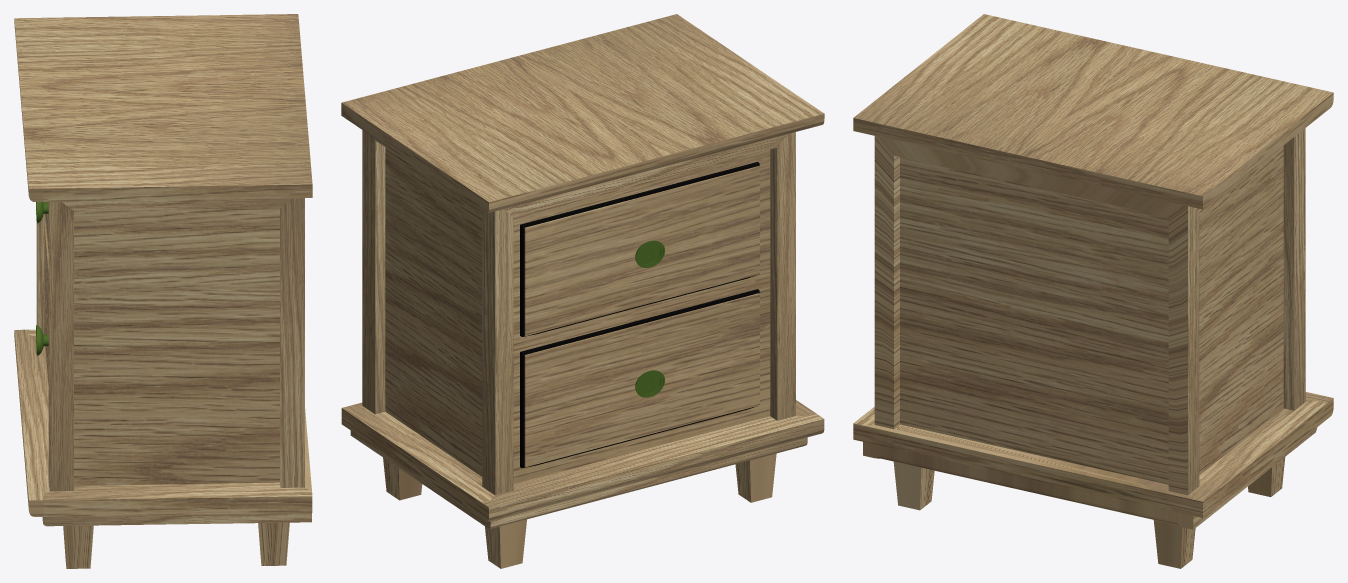
Rendered from TVStand.fbx.
3 views of the same model, side by side, from view 1: azimuth 30°, elevation 25°; view 2: azimuth 150°, elevation 25°; view 3: azimuth 270°, elevation 25° (orthographic). The views are drawn at different scales.
Parts seen in each view (by area): view 1: Nightstand; view 2: Nightstand; view 3: Nightstand.
Boxes of the visible parts, x1,y1,x2,y2 form: Nightstand: [14, 14, 312, 568]; Nightstand: [341, 14, 824, 568]; Nightstand: [853, 14, 1333, 568].
Size of the model in its own units: 670 by 666 by 745.
